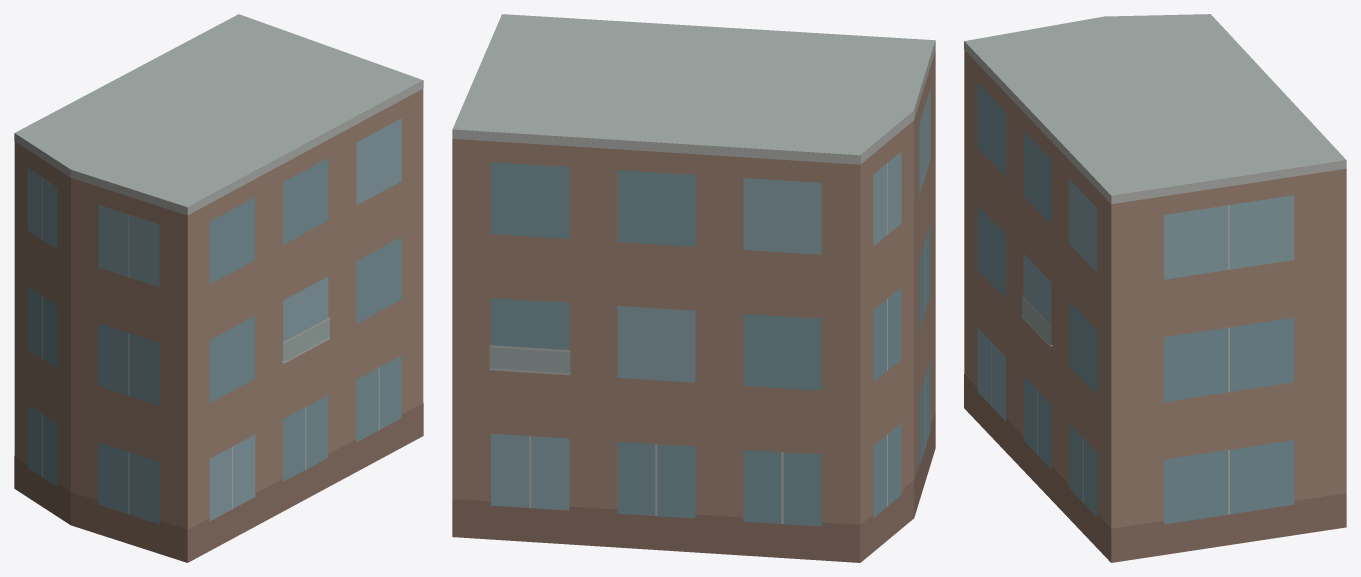
Rendered from survey-upis-32837572.glb.
3 renders of one model, left to right at view 1: azimuth 30°, elevation 25°; view 2: azimuth 150°, elevation 25°; view 3: azimuth 270°, elevation 25°, orthographic. The views are drawn at different scales.
Parts seen in each view (by area): view 1: survey-upis-32837572.tmp; view 2: survey-upis-32837572.tmp; view 3: survey-upis-32837572.tmp.
Part boxes in pixels (x1,y1,x2,y2): survey-upis-32837572.tmp: (14, 14, 423, 562); survey-upis-32837572.tmp: (452, 14, 935, 562); survey-upis-32837572.tmp: (964, 14, 1346, 562).
Size of the model in its own units: 11.27 by 10.6 by 10.02.
